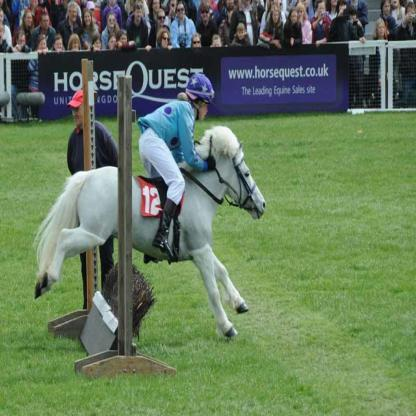Helmet: (184, 79, 215, 114)
